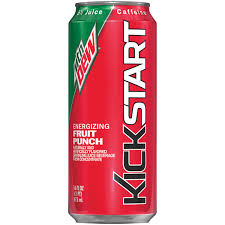can: (65, 1, 162, 225)
